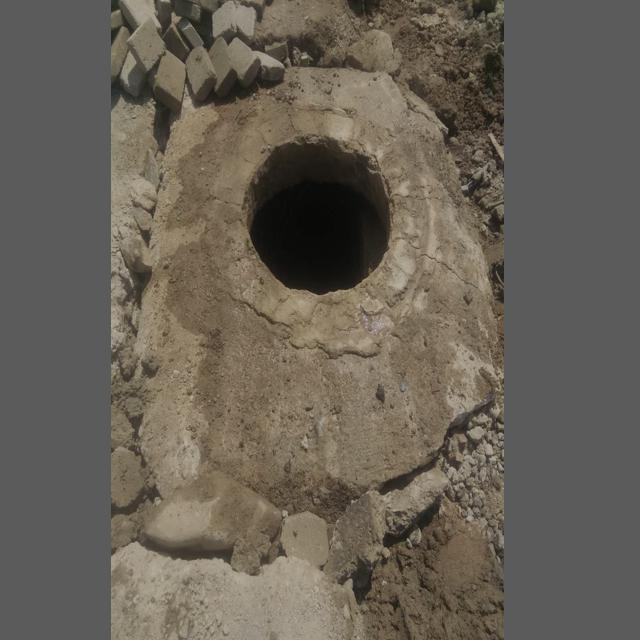lose: (242, 134, 395, 297)
